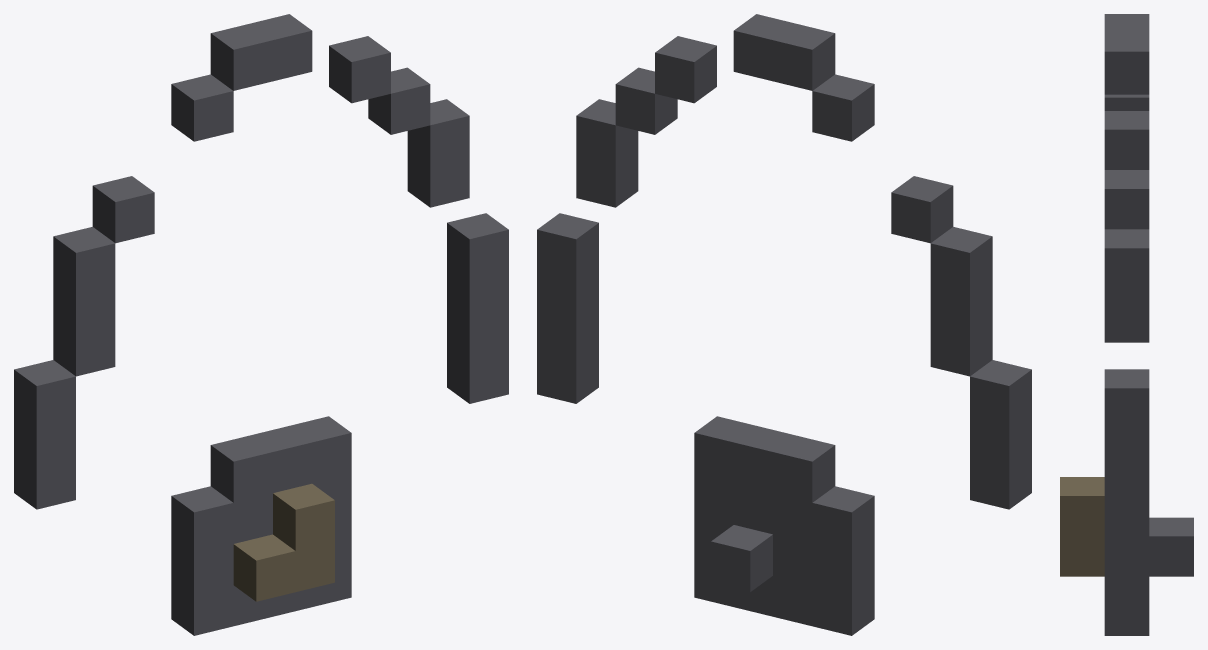
Rendered from pewter_pilgrim_badge_lod1.glb.
The picture shows the model from 3 angles, left to right: view 1: azimuth 30°, elevation 25°; view 2: azimuth 150°, elevation 25°; view 3: azimuth 270°, elevation 25°; orthographic projection.
Visible parts, largest first — view 1: pewter_pilgrim_badge_lod1; view 2: pewter_pilgrim_badge_lod1; view 3: pewter_pilgrim_badge_lod1.
Part boxes in pixels (bbox=[...]): pewter_pilgrim_badge_lod1: bbox=[14, 14, 508, 635]; pewter_pilgrim_badge_lod1: bbox=[537, 14, 1031, 635]; pewter_pilgrim_badge_lod1: bbox=[1060, 14, 1193, 635].
Size of the model in its own units: 0.192 by 0.224 by 0.048.
